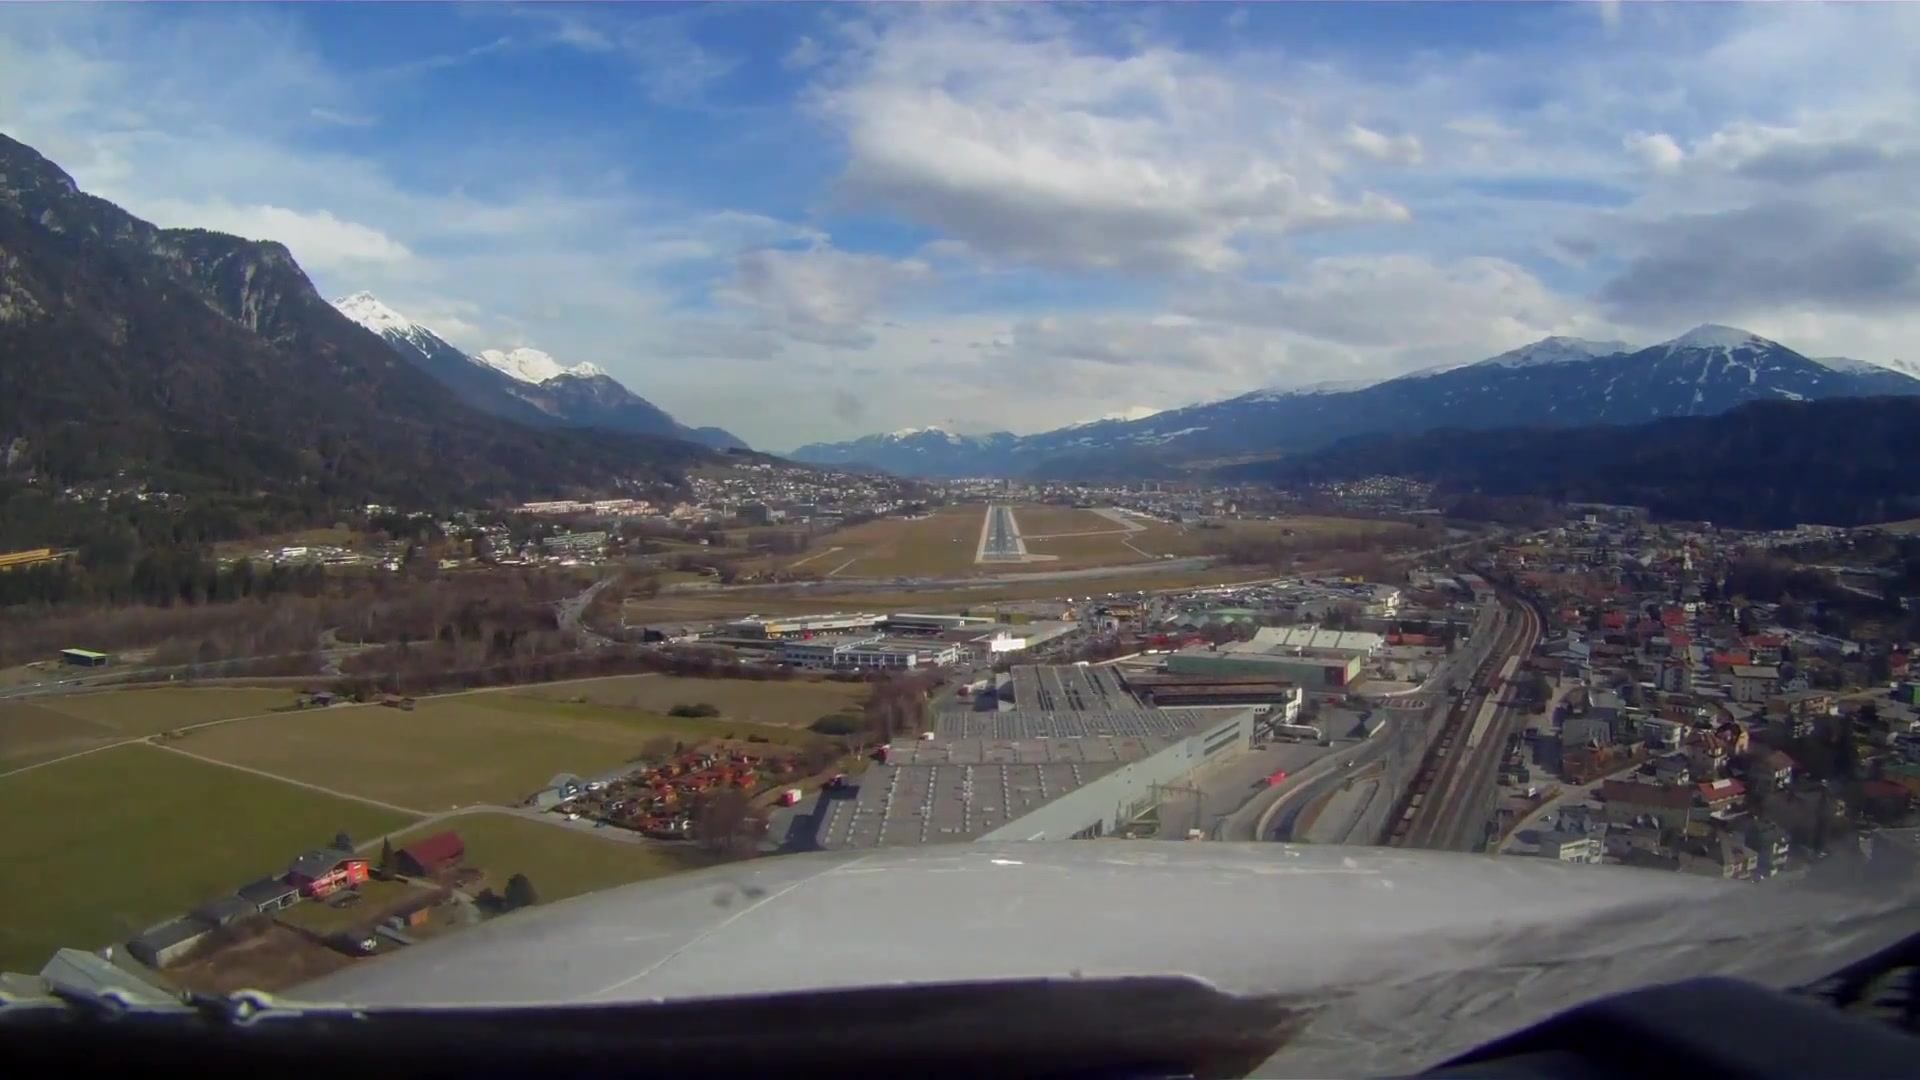entrance: (981, 549, 1021, 555)
runway: (978, 504, 1031, 556)
